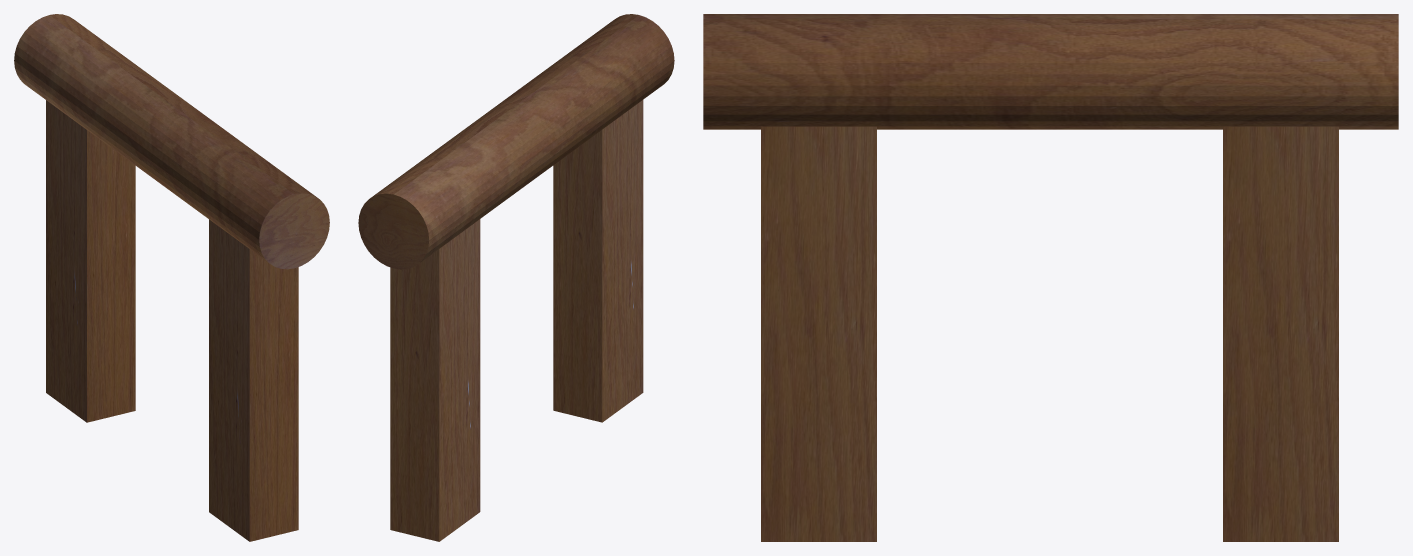
Rendered from bridge2.glb.
3 views of the same model, side by side, from view 1: azimuth 30°, elevation 25°; view 2: azimuth 150°, elevation 25°; view 3: azimuth 270°, elevation 25° (orthographic). The views are drawn at different scales.
Parts seen in each view (by area): view 1: Cylinder; view 2: Cylinder; view 3: Cylinder.
Boxes of the visible parts, <box> form: Cylinder: <box>14,14,329,541</box>; Cylinder: <box>358,14,674,541</box>; Cylinder: <box>703,14,1398,541</box>.
Size of the model in its own units: 2 by 9.64 by 12.01.
Materials: 1 (1 with a texture image).
